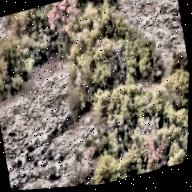boar: (148, 66, 165, 85)
